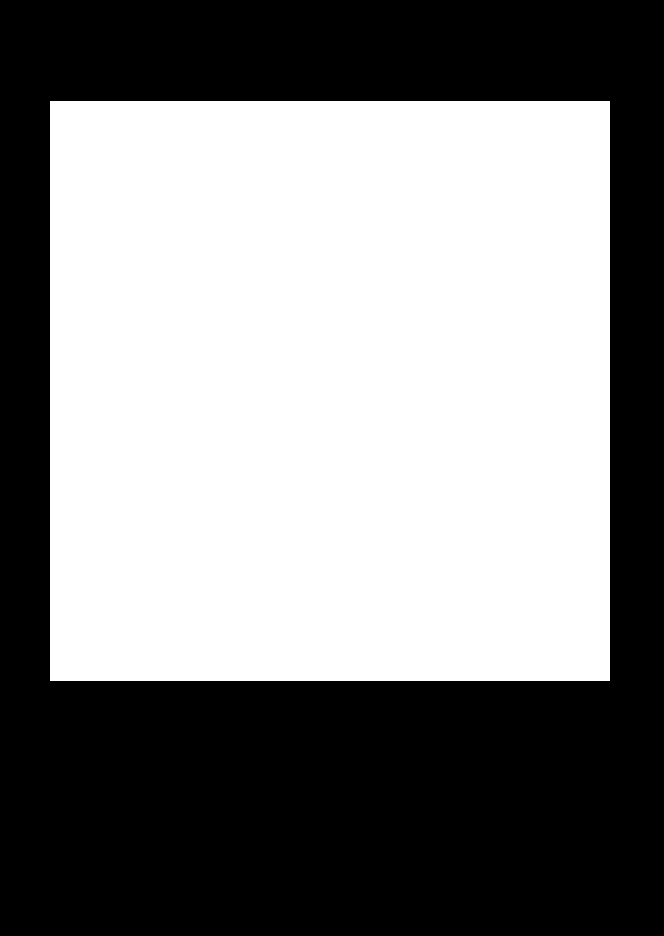table: (50, 101, 609, 680)
